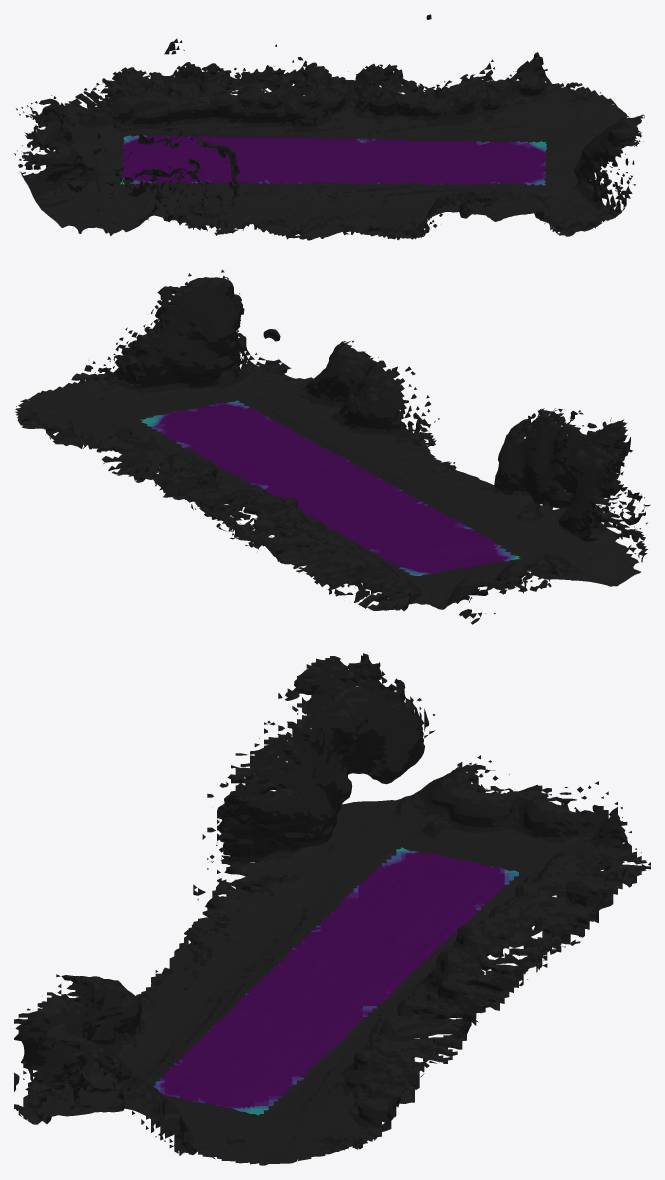
The picture shows the model from 3 angles, top to bottom: view 1: azimuth 30°, elevation 25°; view 2: azimuth 150°, elevation 25°; view 3: azimuth 270°, elevation 25°; orthographic projection. The views are drawn at different scales.
Parts seen in each view (by area): view 1: node; view 2: node; view 3: node.
Boxes of the visible parts, x1=… form: node: x1=14, y1=14, x2=644, y2=240; node: x1=15, y1=269, x2=650, y2=624; node: x1=14, y1=653, x2=650, y2=1165.
Size of the model in its own units: 72.2 by 17.45 by 53.56.
